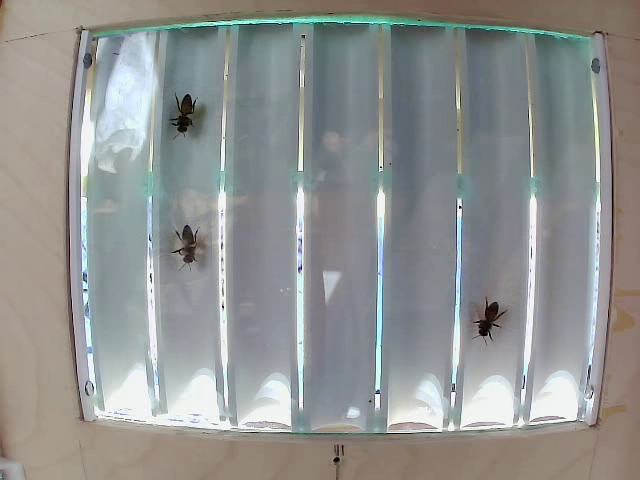bee: (161, 210, 221, 278), (166, 91, 220, 144), (468, 299, 499, 332)
